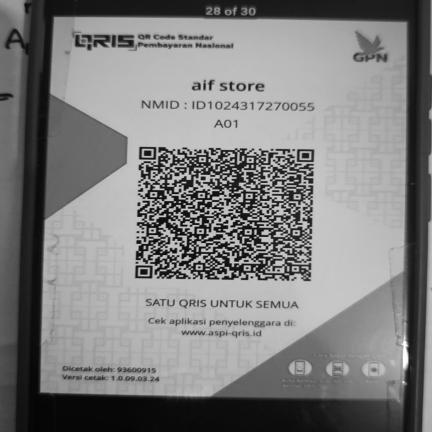Cara Pakai QRIS: (272, 347, 396, 395)
Cek Aplikasi Penyelenggara: (138, 313, 307, 340)
Dicetak Oleh: (60, 364, 161, 374)
Logo GPN: (345, 25, 396, 69)
Logo dan deskripsi QRIS: (65, 27, 243, 56)
Nama Merchant: (181, 78, 276, 95)
National Merchant ID: (132, 97, 325, 114)
QR Code: (130, 142, 320, 285)
Slogan: (139, 294, 308, 313)
Terminal ID: (209, 117, 246, 132)
Versi Cetak: (60, 373, 166, 384)
